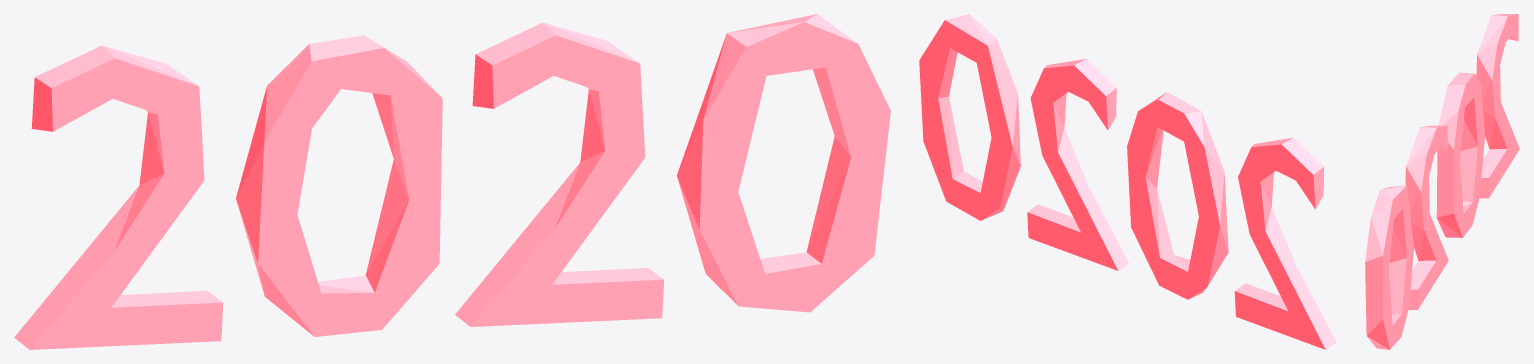
3 renders of one model, left to right at view 1: azimuth 30°, elevation 25°; view 2: azimuth 150°, elevation 25°; view 3: azimuth 270°, elevation 25°, orthographic. The views are drawn at different scales.
Parts seen in each view (by area): view 1: Text1_2020_Red; view 2: Text1_2020_Red; view 3: Text1_2020_Red.
Part boxes in pixels (x1,y1,x2,y2): Text1_2020_Red: (14,14,890,349); Text1_2020_Red: (919,14,1336,349); Text1_2020_Red: (1365,14,1519,349).
Size of the model in its own units: 0.00374 by 0.00157 by 0.00125.
